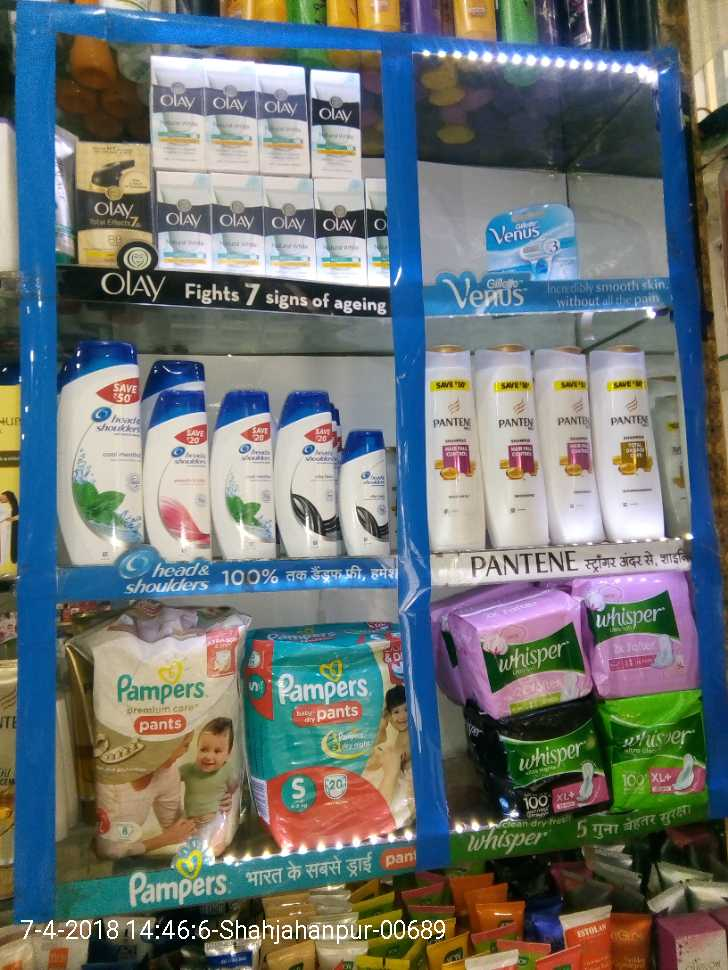venus: (491, 202, 581, 286)
